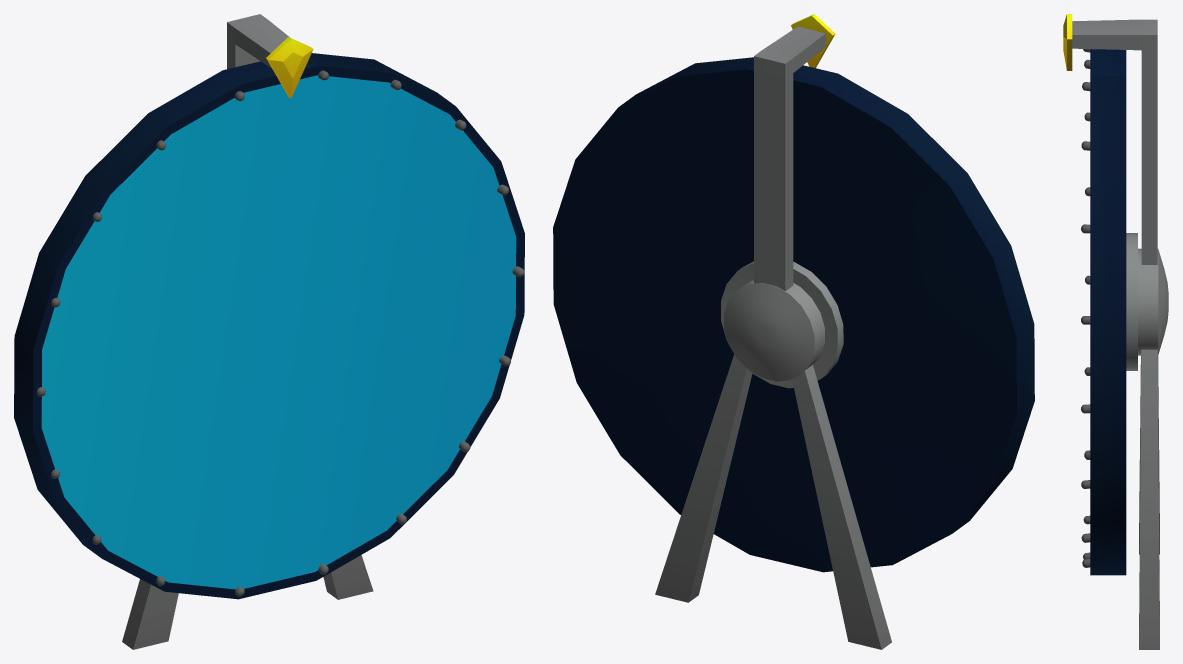
Rendered from wheel_fortune (2).fbx.
The picture shows the model from 3 angles, left to right: view 1: azimuth 30°, elevation 25°; view 2: azimuth 150°, elevation 25°; view 3: azimuth 270°, elevation 25°; orthographic projection. The views are drawn at different scales.
Visible parts, largest first — view 1: wheel_fortune, wheel_base; view 2: wheel_fortune, wheel_base; view 3: wheel_fortune, wheel_base.
Part boxes in pixels (x1,y1,x2,y2): wheel_fortune: (14, 53, 524, 599); wheel_base: (122, 14, 373, 649); wheel_fortune: (553, 57, 1034, 572); wheel_base: (655, 14, 891, 649); wheel_fortune: (1081, 49, 1126, 575); wheel_base: (1063, 14, 1168, 649).
Size of the model in its own units: 233 by 276 by 45.29.
